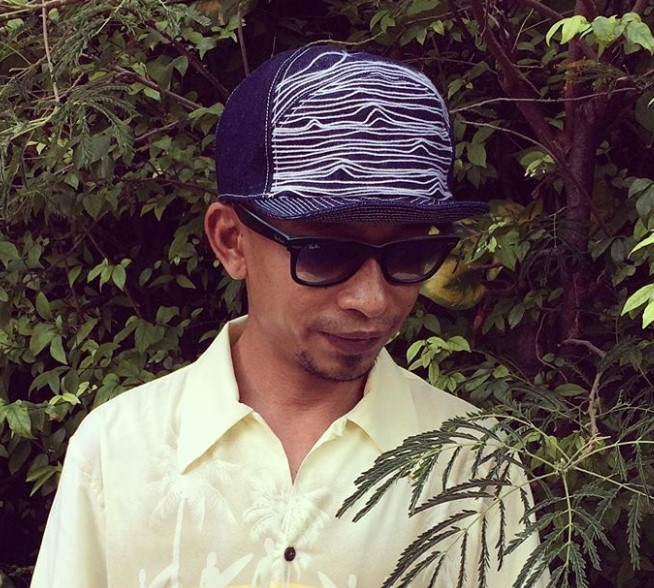face_no_mask: (228, 141, 434, 389)
